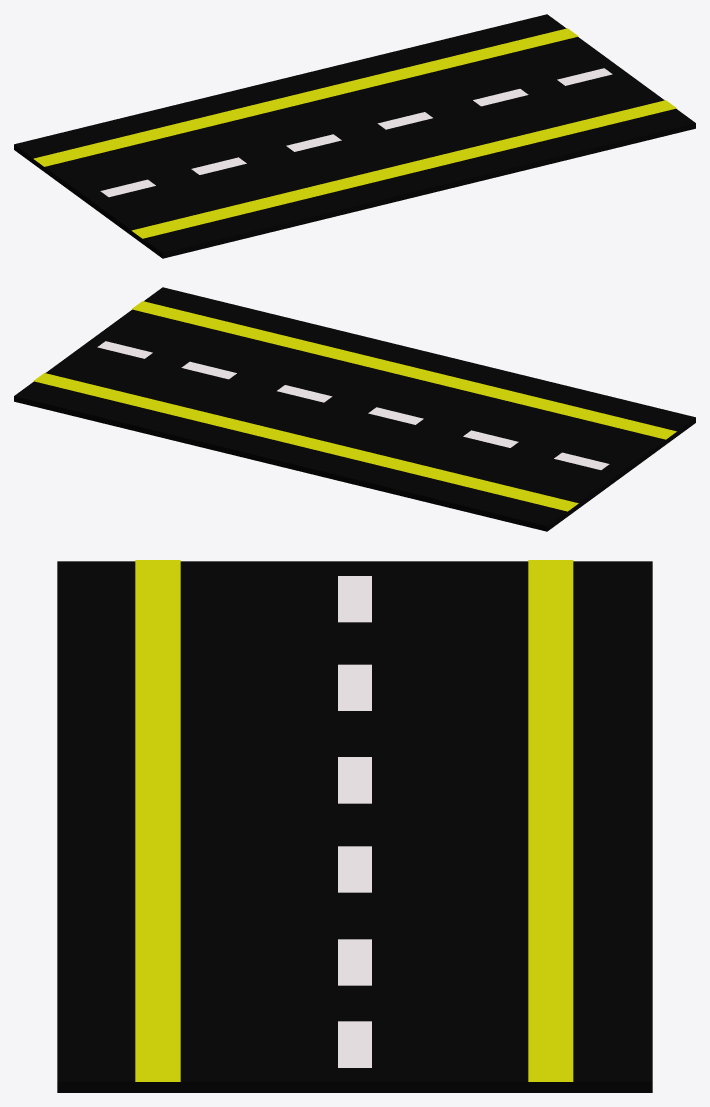
Rendered from Asfalt yol.fbx.
3 views of the same model, one above another, from view 1: azimuth 30°, elevation 25°; view 2: azimuth 150°, elevation 25°; view 3: azimuth 270°, elevation 25° (orthographic). The views are drawn at different scales.
Visible parts, largest first — view 1: Cube.002, Plane.007, Plane.008, Plane.005, Plane.002, Plane.003, Plane.004, Plane.006, Plane.001; view 2: Cube.002, Plane.008, Plane.007, Plane.001, Plane.003, Plane.004, Plane.006, Plane.002, Plane.005; view 3: Cube.002, Plane.007, Plane.008, Plane.001, Plane.002, Plane.003, Plane.004, Plane.005, Plane.006.
Boxes of the visible parts, left/top/right/bottom form: Cube.002: left=14, top=14, right=695, bottom=258; Plane.007: left=33, top=28, right=578, bottom=166; Plane.008: left=131, top=100, right=676, bottom=238; Plane.005: left=557, top=68, right=612, bottom=85; Plane.002: left=286, top=134, right=341, bottom=151; Plane.003: left=377, top=112, right=432, bottom=129; Plane.004: left=473, top=89, right=528, bottom=106; Plane.006: left=100, top=179, right=155, bottom=197; Plane.001: left=191, top=157, right=246, bottom=174; Cube.002: left=14, top=287, right=695, bottom=531; Plane.008: left=131, top=301, right=676, bottom=439; Plane.007: left=33, top=373, right=578, bottom=511; Plane.001: left=463, top=430, right=518, bottom=447; Plane.003: left=277, top=385, right=332, bottom=402; Plane.004: left=181, top=361, right=236, bottom=379; Plane.006: left=554, top=452, right=609, bottom=469; Plane.002: left=368, top=407, right=423, bottom=424; Plane.005: left=97, top=341, right=152, bottom=358; Cube.002: left=57, top=561, right=652, bottom=1092; Plane.007: left=528, top=560, right=573, bottom=1081; Plane.008: left=135, top=560, right=180, bottom=1081; Plane.001: left=338, top=664, right=371, bottom=710; Plane.002: left=338, top=757, right=371, bottom=803; Plane.003: left=338, top=846, right=371, bottom=892; Plane.004: left=338, top=939, right=371, bottom=985; Plane.005: left=338, top=1021, right=371, bottom=1067; Plane.006: left=338, top=576, right=371, bottom=622.
Bounding box in the file's own units: 941 × 10.36 × 453.
